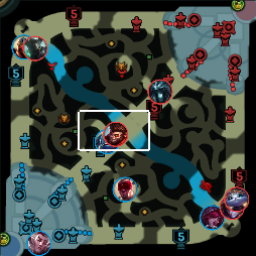ezreal: (220, 195, 244, 218)
fizz: (95, 130, 117, 154)
karthus: (148, 79, 172, 103)
leesin: (111, 176, 137, 203)
monkeyking: (102, 121, 127, 146)
mordekaiser: (23, 36, 48, 58)
rakan: (26, 231, 52, 256)
xayah: (198, 205, 224, 230)
yuumi: (223, 187, 248, 212)
zed: (11, 34, 36, 59)
